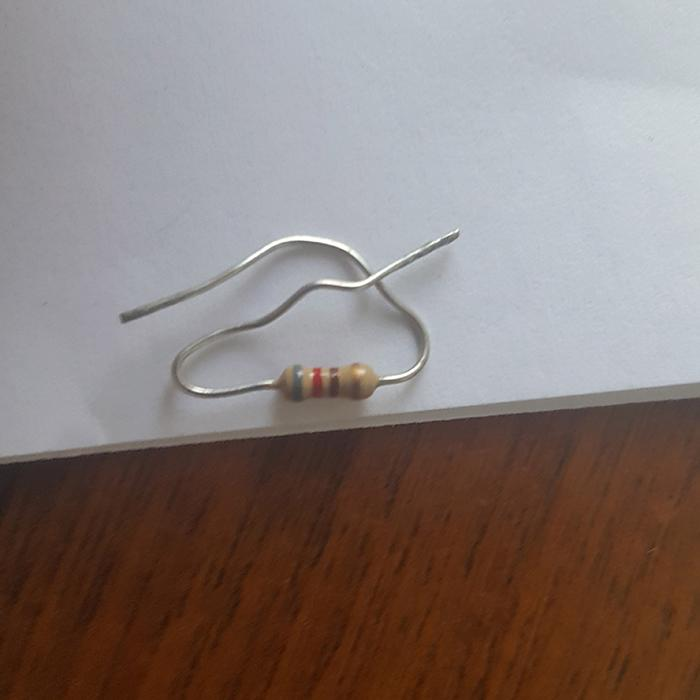resistor: (281, 362, 381, 402)
